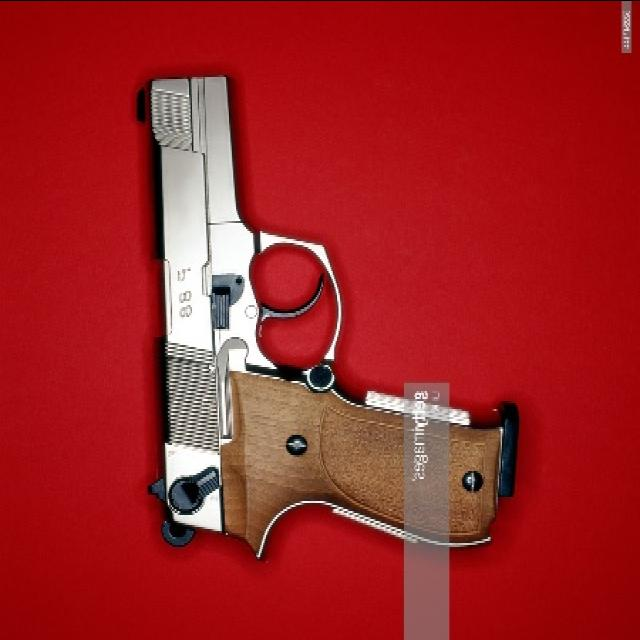handgun: (129, 59, 520, 559)
